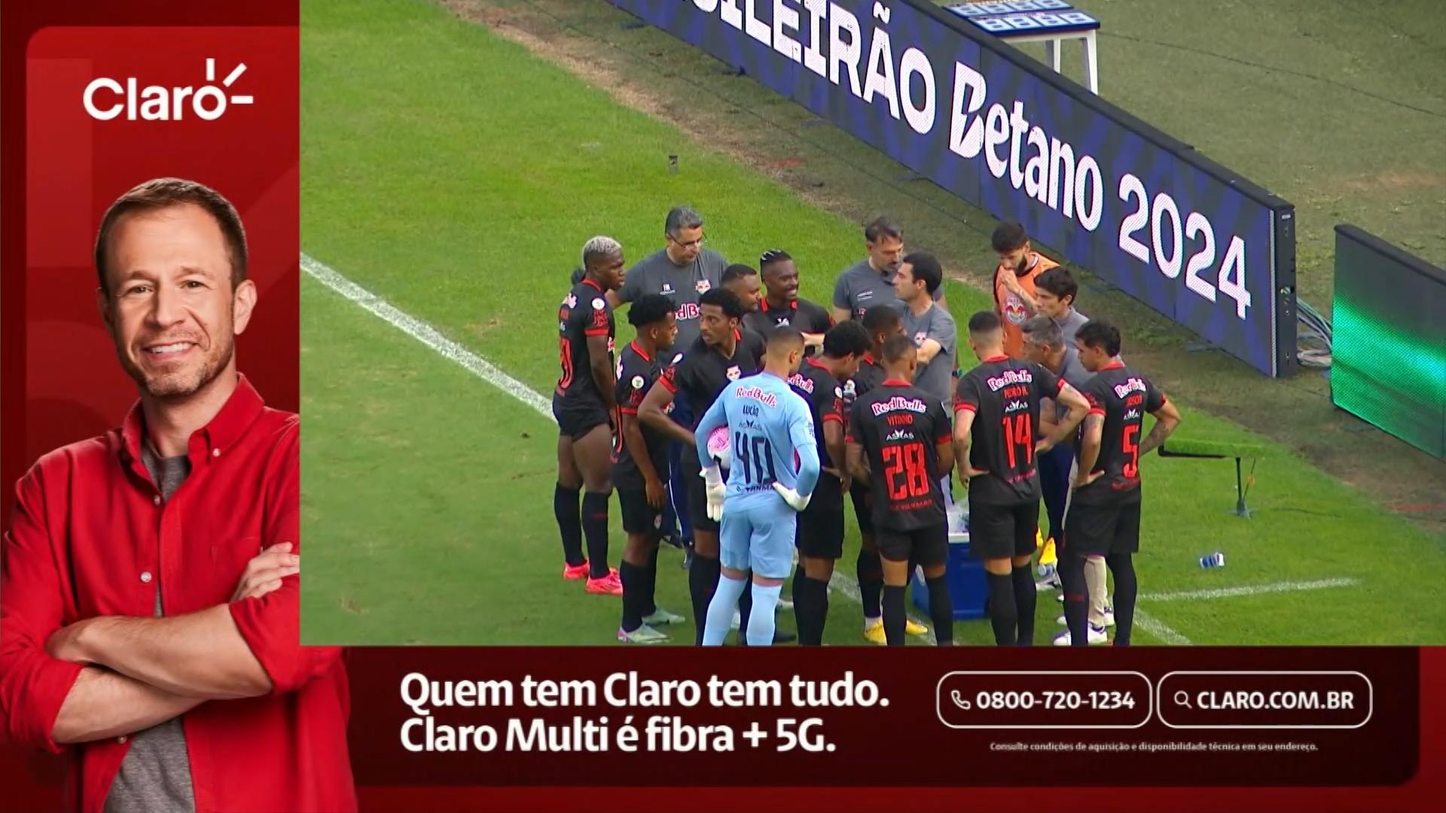objects: (1, 0, 1445, 812)
